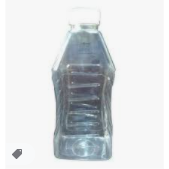Bottle: (54, 7, 114, 159)
